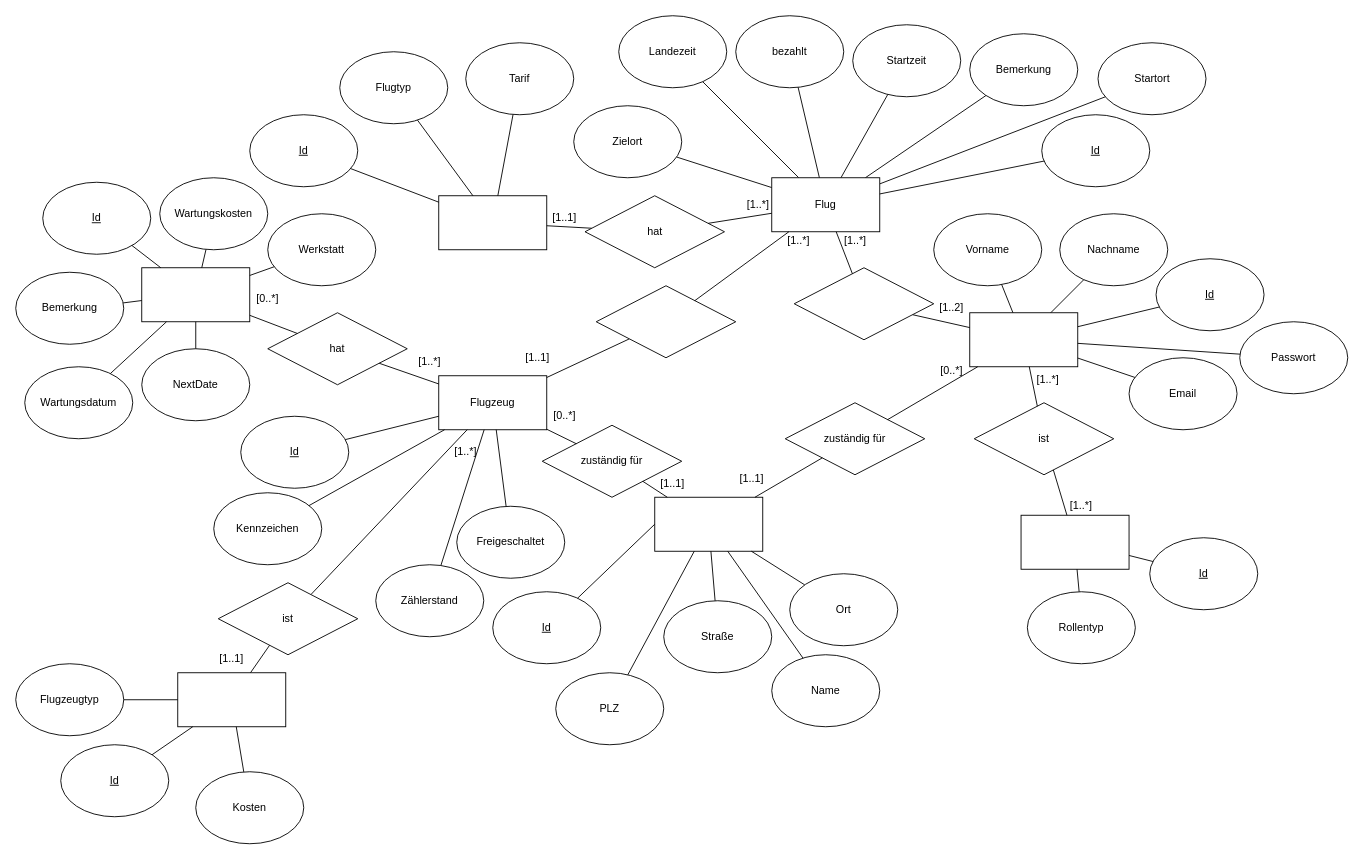
This 1364x860 diagram has some shape labels left out. Each missing label, with the box of its shape:
Benutzer: (969, 312, 1078, 367)
fliegt: (793, 267, 934, 340)
Flugart: (438, 195, 547, 250)
Kostenstelle: (654, 496, 763, 551)
Rolle: (1020, 514, 1129, 569)
Typ: (177, 672, 286, 727)
verwendet: (595, 285, 736, 358)
Wartung: (141, 267, 250, 322)
